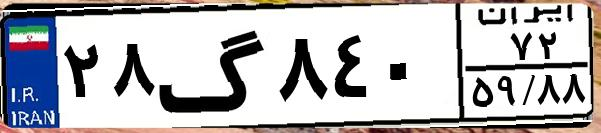0: (385, 28, 445, 110)
2: (57, 26, 110, 100), (537, 27, 568, 80)
4: (330, 28, 385, 110)
5: (470, 70, 495, 125)
7: (508, 27, 537, 80)
8: (270, 28, 330, 110), (110, 28, 156, 98), (560, 70, 590, 125), (535, 70, 560, 125)
9: (495, 70, 520, 125)
گ: (156, 12, 270, 120)
